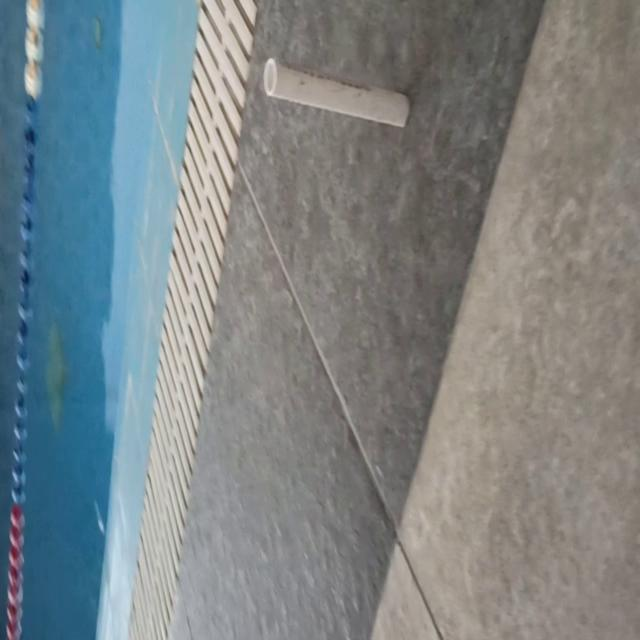Cube: (262, 54, 410, 130)
